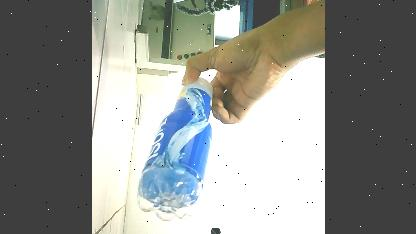Plastic Bottle: (129, 63, 223, 229)
